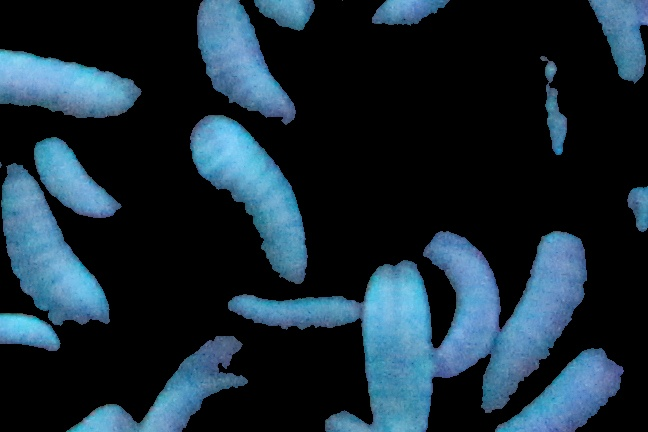larvae: (193, 118, 313, 284), (487, 228, 595, 408), (1, 164, 110, 326), (192, 1, 301, 146), (422, 235, 501, 375), (368, 264, 435, 424), (495, 349, 622, 432), (1, 48, 139, 121), (34, 132, 123, 217), (230, 292, 360, 337)
